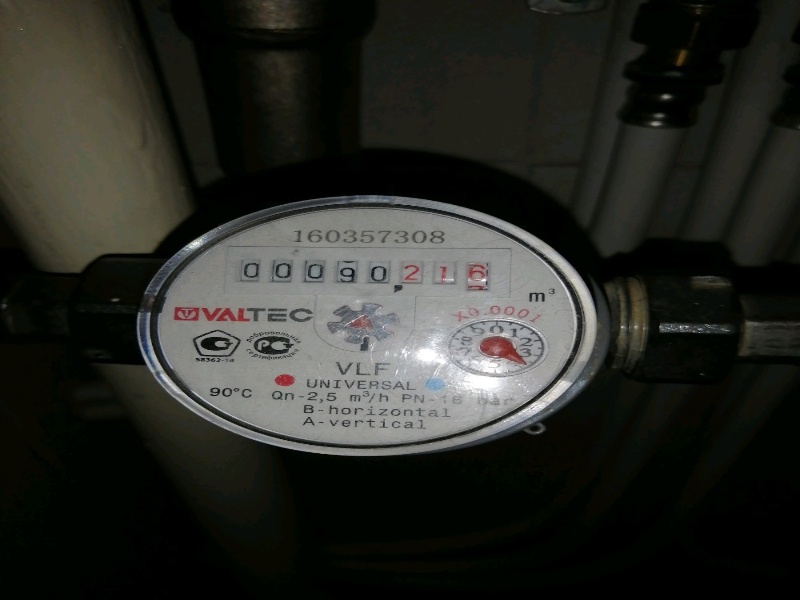meter: (234, 250, 509, 296)
